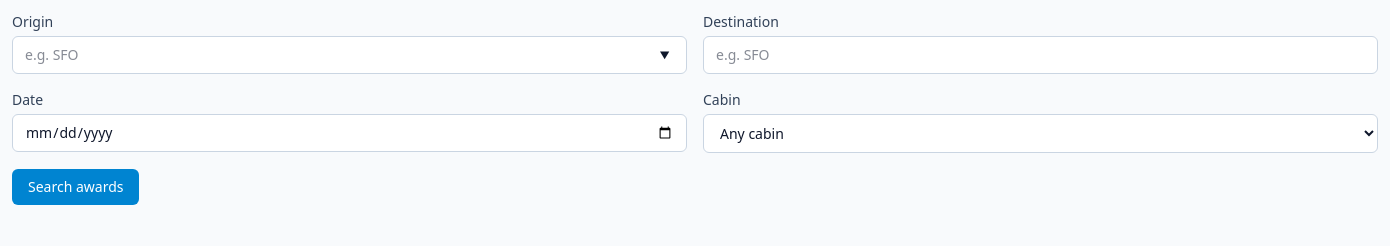
Test: SearchForm › rejects a destination equal to the origin
Type "sfo" into the field labelled "Origin" at (350, 55), box [12,36,687,74]
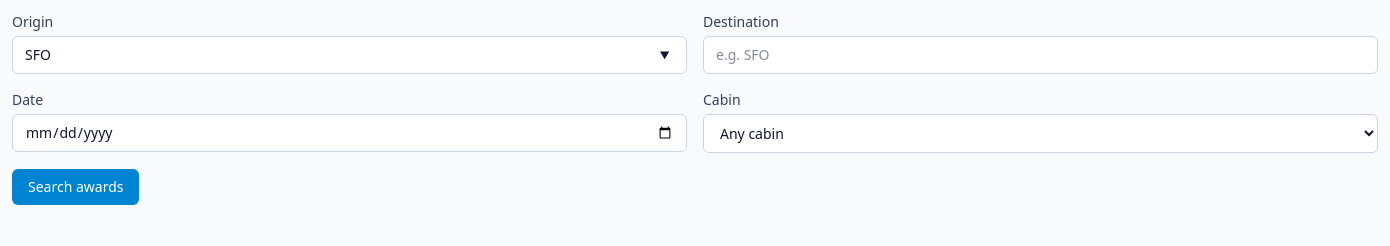
Type "sfo" into the field labelled "Destination" at (1040, 55), box [703,36,1378,74]
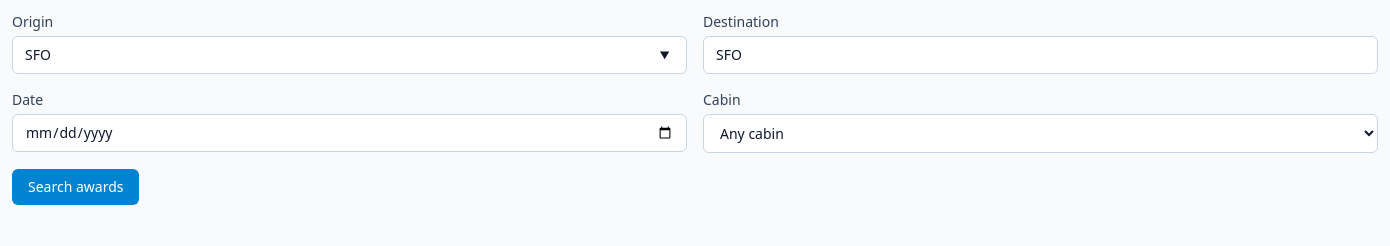
Type "2099-12-20" into the date field labelled "Date" at (350, 133), box [12,114,687,152]
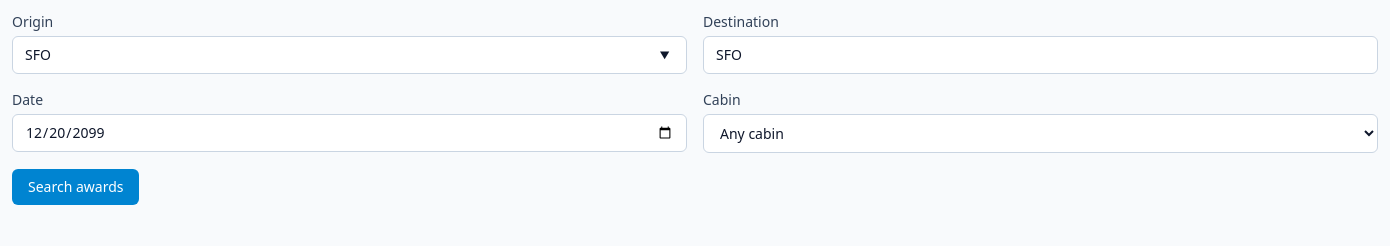
Click the button "Search awards" at (76, 187), box [12,169,140,205]
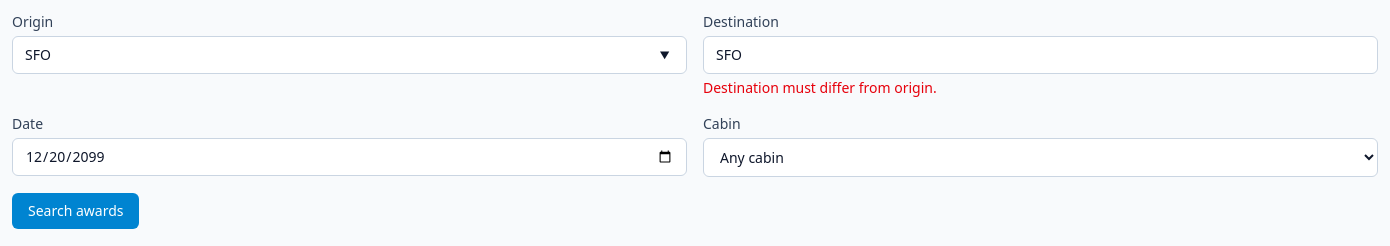
Expected: the text "Destination must differ from origin." is shown, [703,78,937,97]
